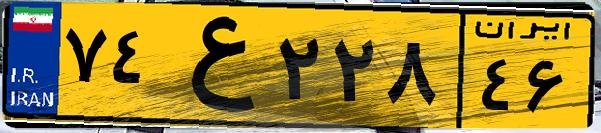2: (270, 28, 330, 110), (330, 28, 385, 110)
4: (475, 38, 525, 113), (110, 28, 158, 98)
6: (525, 38, 570, 115)
7: (57, 26, 110, 100)
8: (385, 28, 445, 110)
ع: (158, 12, 270, 120)
